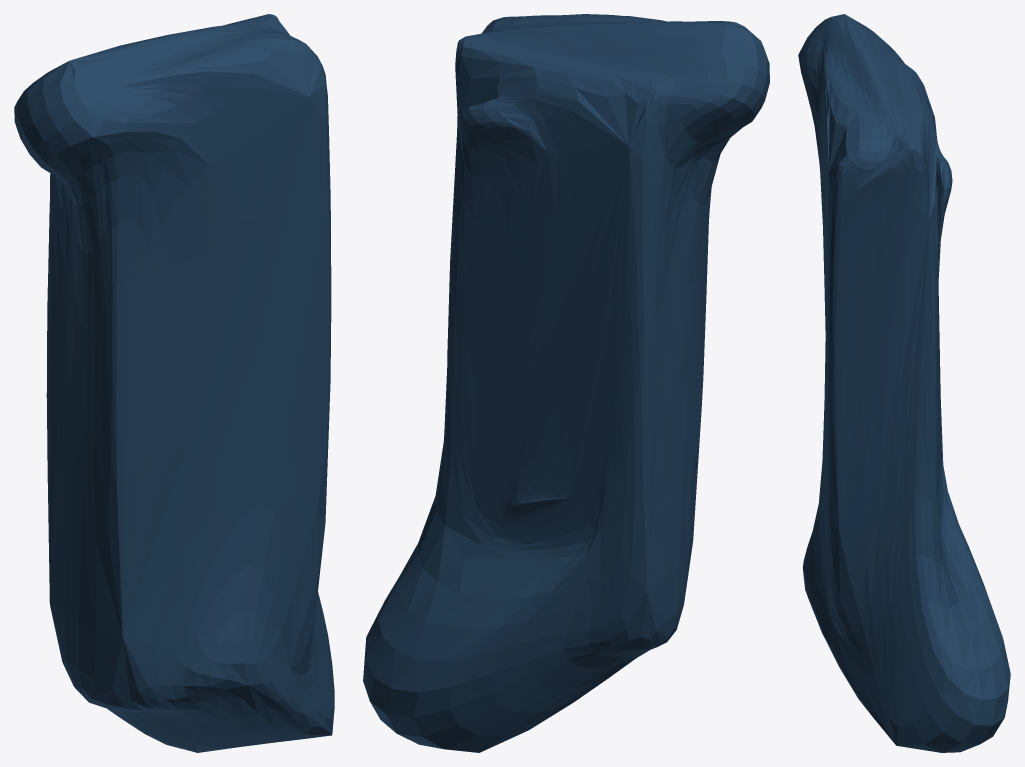
3 views of the same model, side by side, from view 1: azimuth 30°, elevation 25°; view 2: azimuth 150°, elevation 25°; view 3: azimuth 270°, elevation 25° (orthographic). The views are drawn at different scales.
Parts seen in each view (by area): view 1: 778_Cube.3134; view 2: 778_Cube.3134; view 3: 778_Cube.3134.
Part boxes in pixels (box(x1,y1,x2,y2)): 778_Cube.3134: box(14, 14, 334, 752); 778_Cube.3134: box(363, 14, 769, 752); 778_Cube.3134: box(798, 14, 1010, 752).
Bounding box in the file's own units: 7.24 × 15.01 × 4.56.
